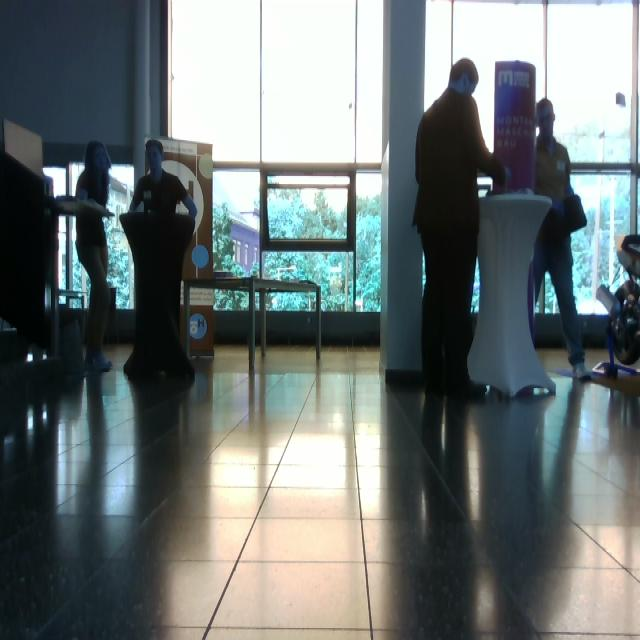light bulb: (199, 153, 214, 180), (616, 92, 626, 108)
motorcycle: (595, 233, 640, 370)
person: (412, 59, 508, 399), (124, 138, 199, 380), (530, 99, 593, 383), (75, 141, 129, 373)
pillar: (380, 1, 427, 378)
table: (466, 192, 560, 404)
tiled floor: (2, 341, 639, 638)
window: (167, 1, 386, 316)
